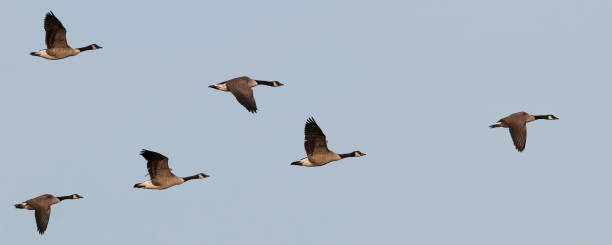goose: (27, 9, 104, 66), (289, 114, 368, 168), (131, 148, 211, 193), (11, 191, 84, 237), (484, 112, 561, 154), (204, 77, 286, 116)
